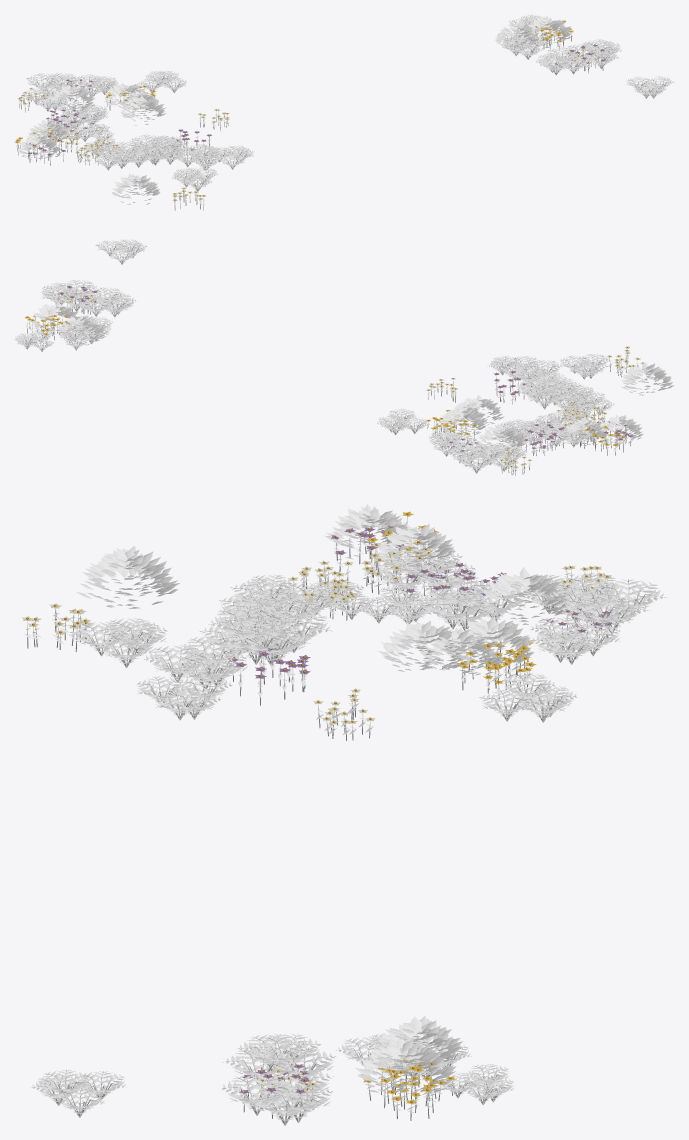
Rendered from SM_DF_Explorer_0_2_Flora.fbx.
3 renders of one model, top to bottom at view 1: azimuth 30°, elevation 25°; view 2: azimuth 150°, elevation 25°; view 3: azimuth 270°, elevation 25°, orthographic. The views are drawn at different scales.
Parts seen in each view (by area): view 1: SM_DF_Explorer_0_2_Flora; view 2: SM_DF_Explorer_0_2_Flora; view 3: SM_DF_Explorer_0_2_Flora.
Boxes of the visible parts, bbox=[...] form: SM_DF_Explorer_0_2_Flora: bbox=[14, 14, 674, 210]; SM_DF_Explorer_0_2_Flora: bbox=[15, 239, 674, 475]; SM_DF_Explorer_0_2_Flora: bbox=[22, 504, 666, 1125].
Bounding box in the file's own units: 2809 × 1353 × 212.
